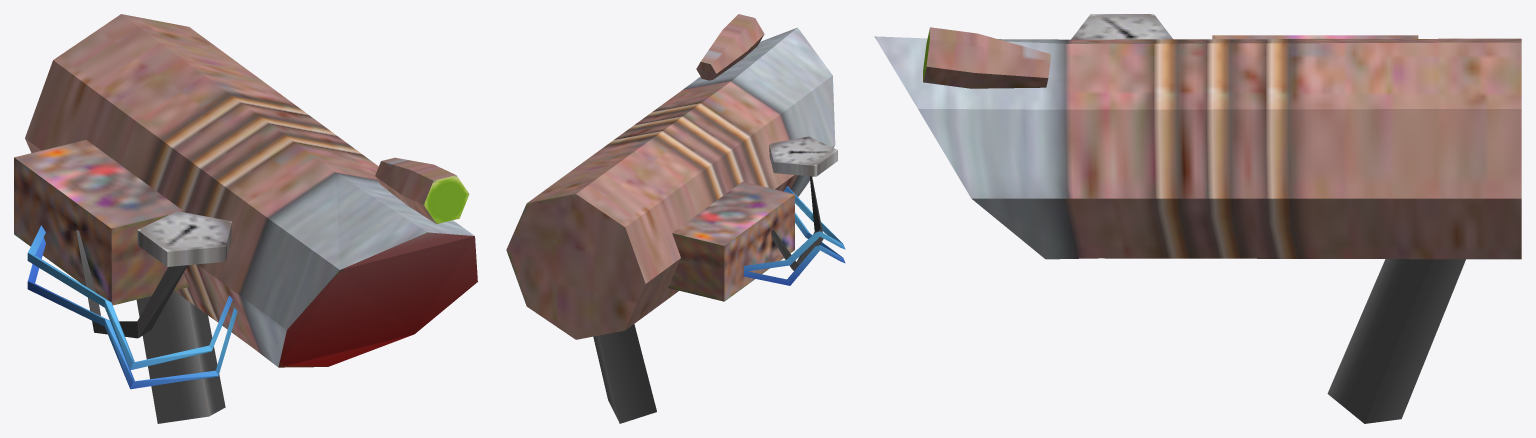
Rendered from MSensorv2_1.obj.
3 renders of one model, left to right at view 1: azimuth 30°, elevation 25°; view 2: azimuth 150°, elevation 25°; view 3: azimuth 270°, elevation 25°, orthographic. The views are drawn at different scales.
Visible parts, largest first — view 1: Cylinder03; view 2: Cylinder03; view 3: Cylinder03.
Boxes of the visible parts, x1,y1,x2,y2 form: Cylinder03: (14,14,477,423); Cylinder03: (506,14,845,423); Cylinder03: (874,14,1521,423).
Bounding box in the file's own units: 6.19 × 7.89 × 11.28.
